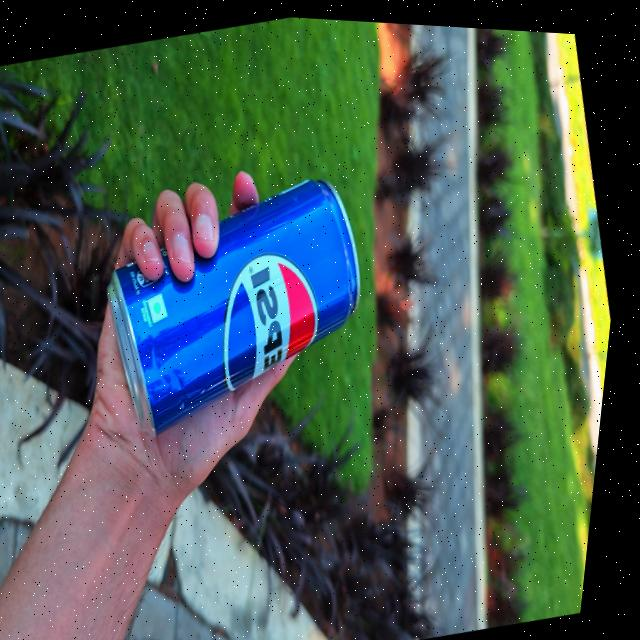Pepsi: (84, 151, 403, 450)
